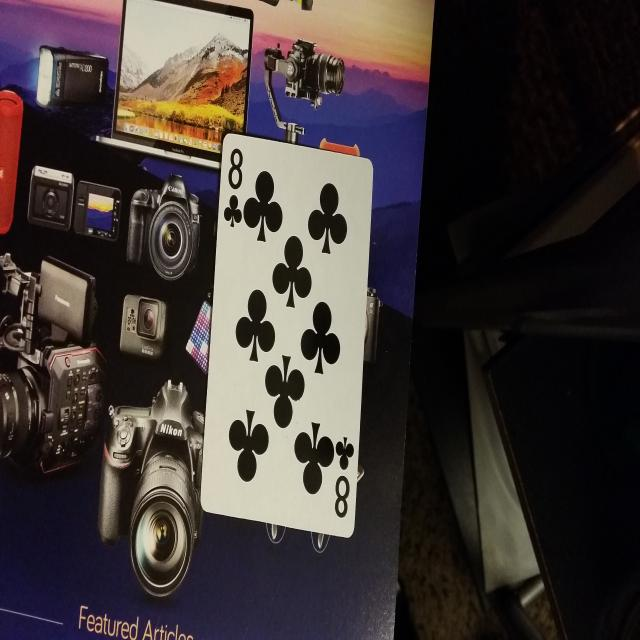8c: (222, 138, 247, 234), (329, 435, 354, 529)
